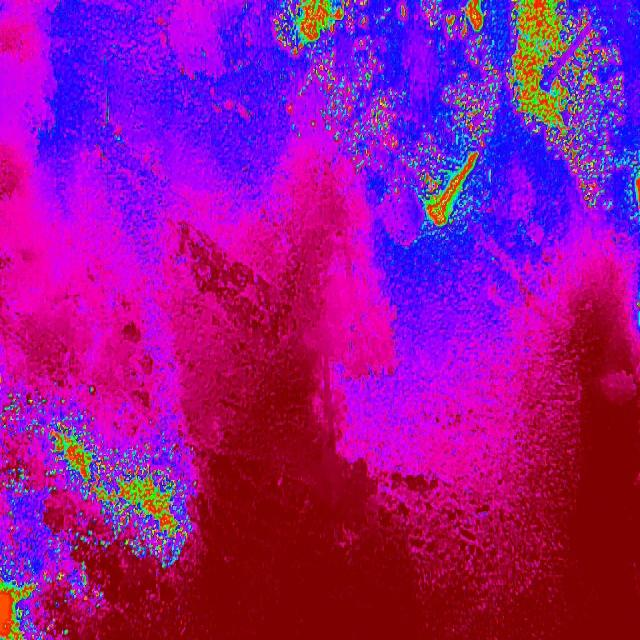fire: (270, 0, 640, 144), (0, 380, 113, 640), (353, 144, 505, 245), (112, 429, 202, 573), (548, 143, 640, 218)
